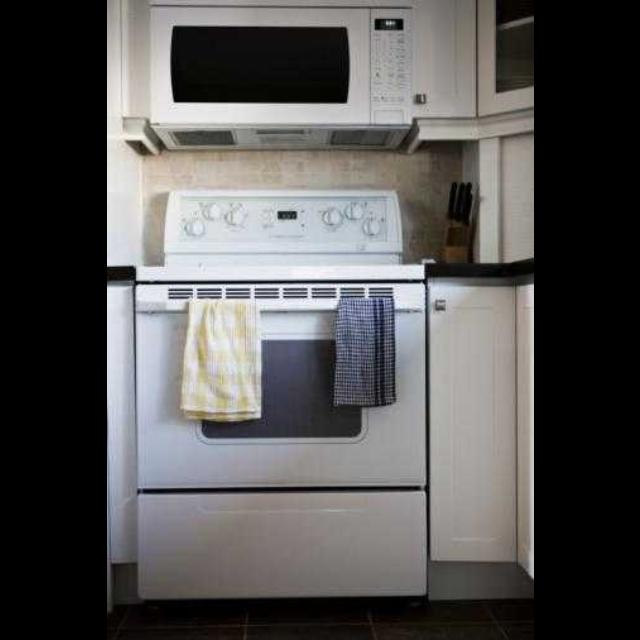Oven: (136, 264, 434, 602), (139, 0, 429, 160)
